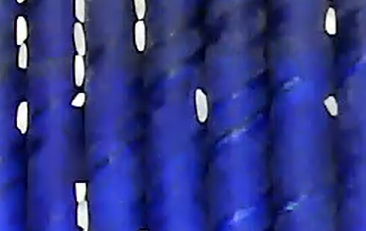broken_grain: (75, 200, 91, 231), (323, 94, 341, 119), (68, 92, 90, 110), (71, 181, 88, 204), (73, 1, 87, 24), (133, 1, 149, 19)
complete_grain: (193, 88, 209, 125), (15, 99, 30, 136), (132, 20, 148, 54), (322, 5, 339, 37), (72, 21, 87, 57), (72, 54, 86, 88), (15, 15, 30, 46), (17, 42, 28, 72)
